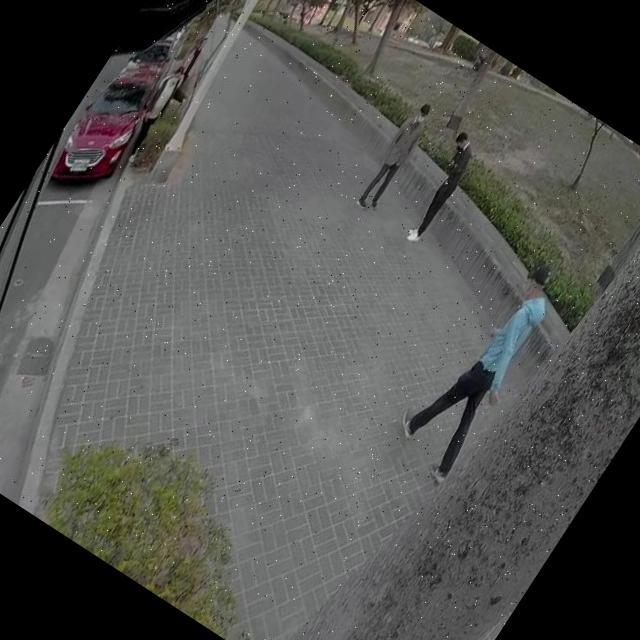person: (387, 244, 572, 478), (352, 98, 442, 216), (396, 130, 484, 248), (118, 62, 202, 167), (178, 33, 210, 76)
